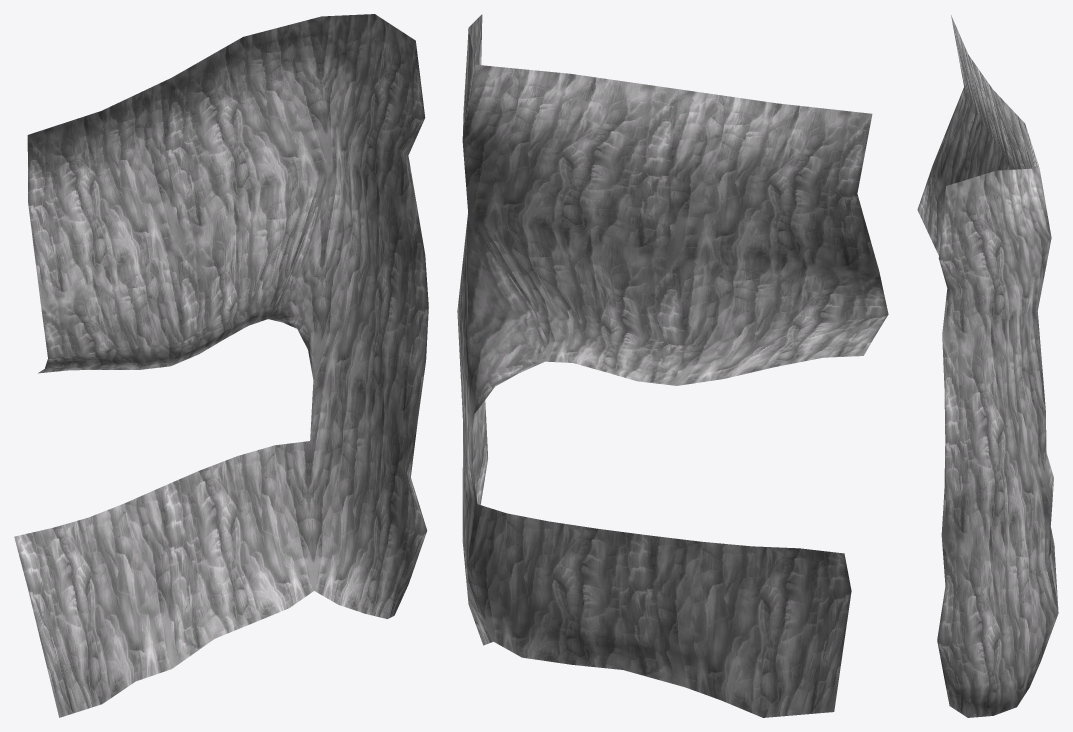
File: SWORDLIGHT20_PS-AREA03_31.fbx
3 views of the same model, side by side, from view 1: azimuth 30°, elevation 25°; view 2: azimuth 150°, elevation 25°; view 3: azimuth 270°, elevation 25° (orthographic). The views are drawn at different scales.
Visible parts, largest first — view 1: SWORDLIGHT20_PS-AREA03_31; view 2: SWORDLIGHT20_PS-AREA03_31; view 3: SWORDLIGHT20_PS-AREA03_31.
Boxes of the visible parts, x1,y1,x2,y2 form: SWORDLIGHT20_PS-AREA03_31: (14,14,428,717); SWORDLIGHT20_PS-AREA03_31: (457,14,888,717); SWORDLIGHT20_PS-AREA03_31: (917,15,1058,717).
Bounding box in the file's own units: 181929 × 268804 × 60399.
Materials: 2 (2 with a texture image).
